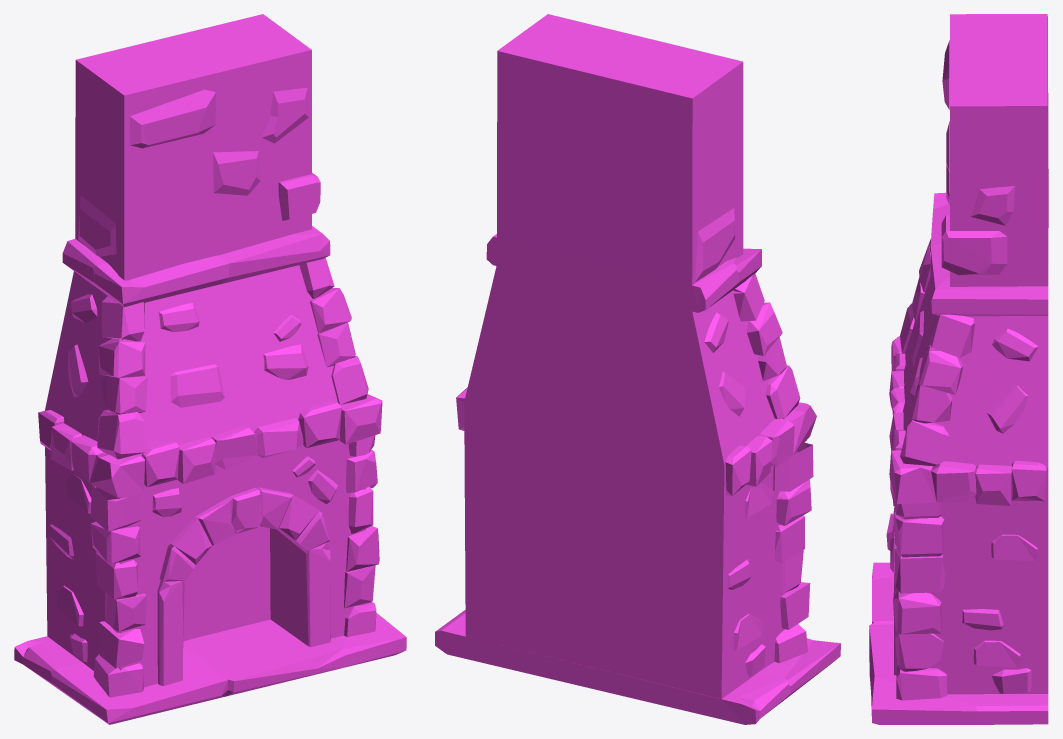
The model's file is SM_Fireplace_Fantasy.fbx.
3 views of the same model, side by side, from view 1: azimuth 30°, elevation 25°; view 2: azimuth 150°, elevation 25°; view 3: azimuth 270°, elevation 25° (orthographic). The views are drawn at different scales.
Parts seen in each view (by area): view 1: SM_Fireplace_Fantasy; view 2: SM_Fireplace_Fantasy; view 3: SM_Fireplace_Fantasy.
Part boxes in pixels (<box>): SM_Fireplace_Fantasy: <box>14,14,406,724</box>; SM_Fireplace_Fantasy: <box>435,14,840,724</box>; SM_Fireplace_Fantasy: <box>869,14,1048,724</box>.
Bounding box in the file's own units: 1.64 × 3.01 × 0.8227.
